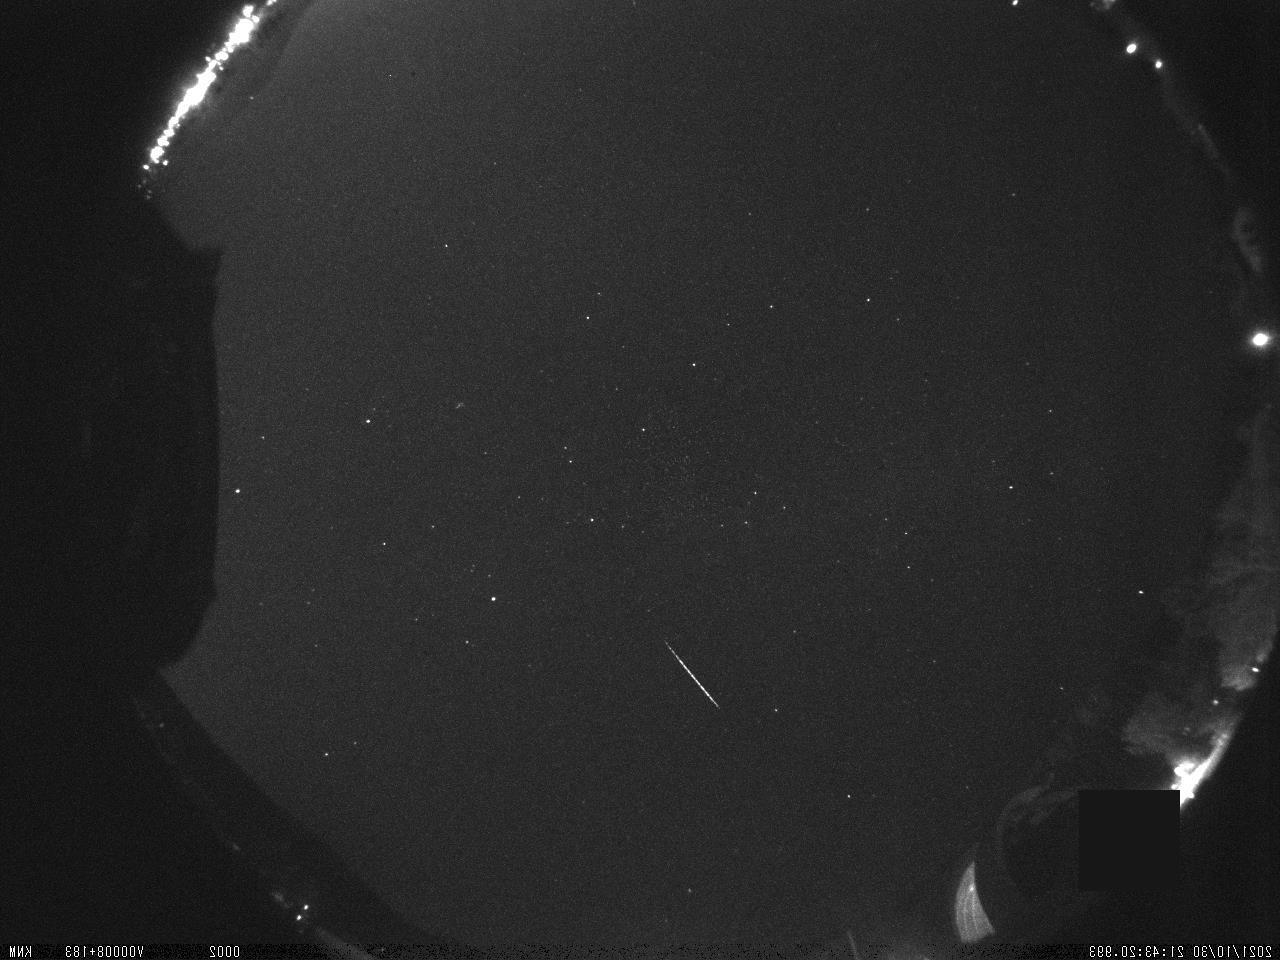meteor: (654, 630, 732, 731)
